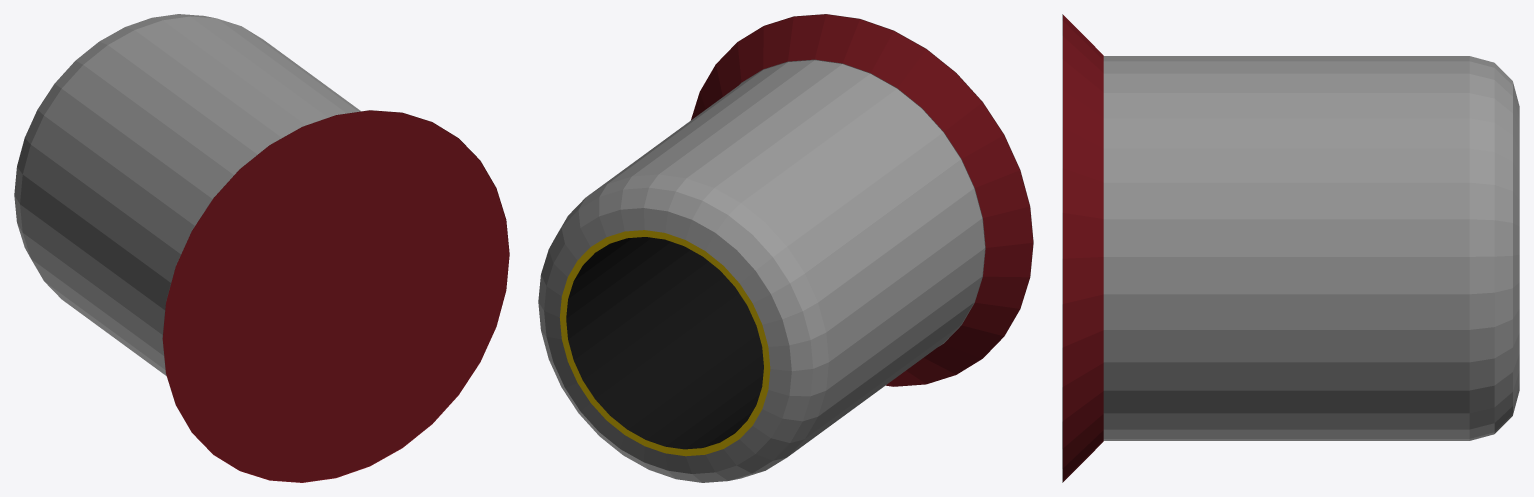
File: SwitchTest1_Tunnel.fbx
3 renders of one model, left to right at view 1: azimuth 30°, elevation 25°; view 2: azimuth 150°, elevation 25°; view 3: azimuth 270°, elevation 25°, orthographic. The views are drawn at different scales.
Visible parts, largest first — view 1: Círculo; view 2: Círculo; view 3: Círculo.
Part boxes in pixels (left/top/right/bottom): Círculo: left=14, top=14, right=509, bottom=482; Círculo: left=538, top=14, right=1033, bottom=482; Círculo: left=1062, top=14, right=1519, bottom=482.
Bounding box in the file's own units: 103 × 103 × 100.
